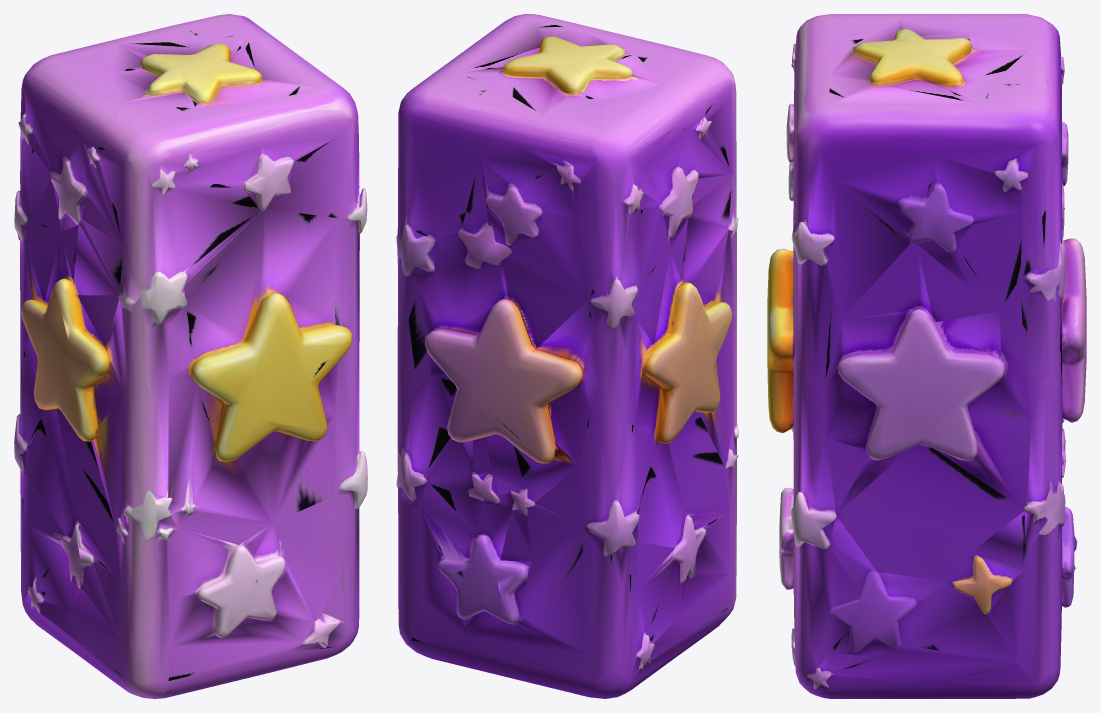
Rendered from mor_dikey_kup.glb.
3 renders of one model, left to right at view 1: azimuth 30°, elevation 25°; view 2: azimuth 150°, elevation 25°; view 3: azimuth 270°, elevation 25°, orthographic. The views are drawn at different scales.
Parts seen in each view (by area): view 1: tripo_node_d79025e6-ebd8-48dc-9ced-72a668f0be46; view 2: tripo_node_d79025e6-ebd8-48dc-9ced-72a668f0be46; view 3: tripo_node_d79025e6-ebd8-48dc-9ced-72a668f0be46.
Boxes of the visible parts, <box> form: tripo_node_d79025e6-ebd8-48dc-9ced-72a668f0be46: <box>14,14,367,698</box>; tripo_node_d79025e6-ebd8-48dc-9ced-72a668f0be46: <box>396,14,738,698</box>; tripo_node_d79025e6-ebd8-48dc-9ced-72a668f0be46: <box>767,14,1086,698</box>.
Bounding box in the file's own units: 0.4722 × 0.9801 × 0.4717.
1 material, 1 textured.
